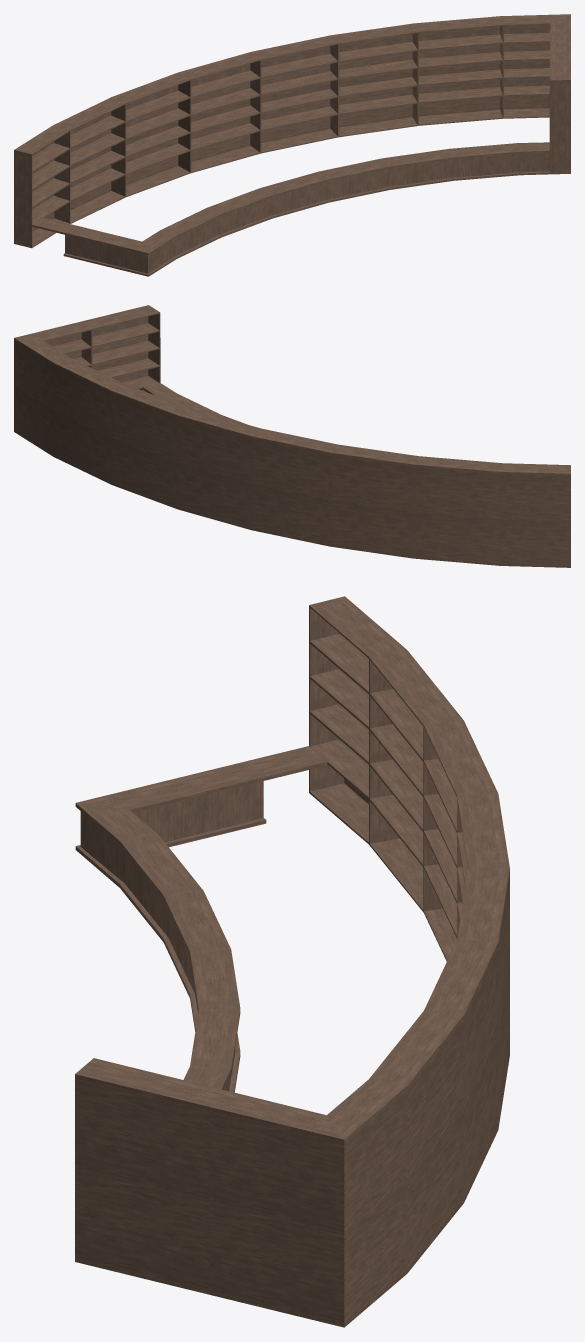
The model's file is mt_prop_batai.fbx.
3 views of the same model, one above another, from view 1: azimuth 30°, elevation 25°; view 2: azimuth 150°, elevation 25°; view 3: azimuth 270°, elevation 25° (orthographic). The views are drawn at different scales.
Parts seen in each view (by area): view 1: mt_prop_batai; view 2: mt_prop_batai; view 3: mt_prop_batai.
Boxes of the visible parts, box(x1,y1,x2,y2) form: mt_prop_batai: box(14, 14, 570, 276); mt_prop_batai: box(14, 305, 570, 567); mt_prop_batai: box(75, 596, 509, 1327).
Bounding box in the file's own units: 2481 × 400 × 839.
